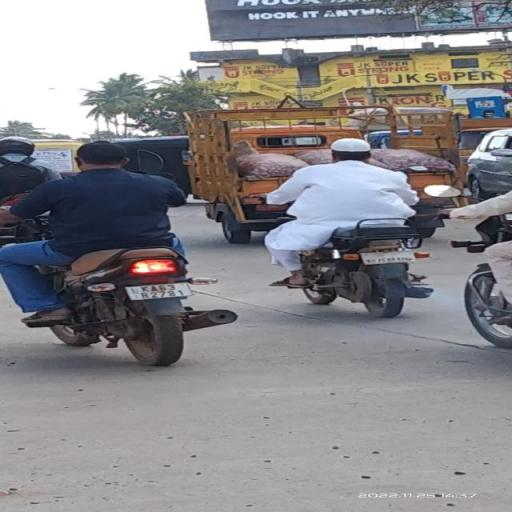bike: (7, 136, 247, 368)
numberplate: (127, 280, 189, 302)
withouthelmet: (77, 142, 124, 168)
